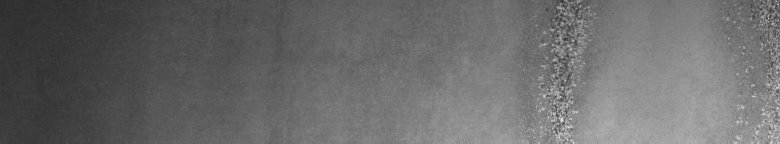hc: (521, 4, 601, 136)
